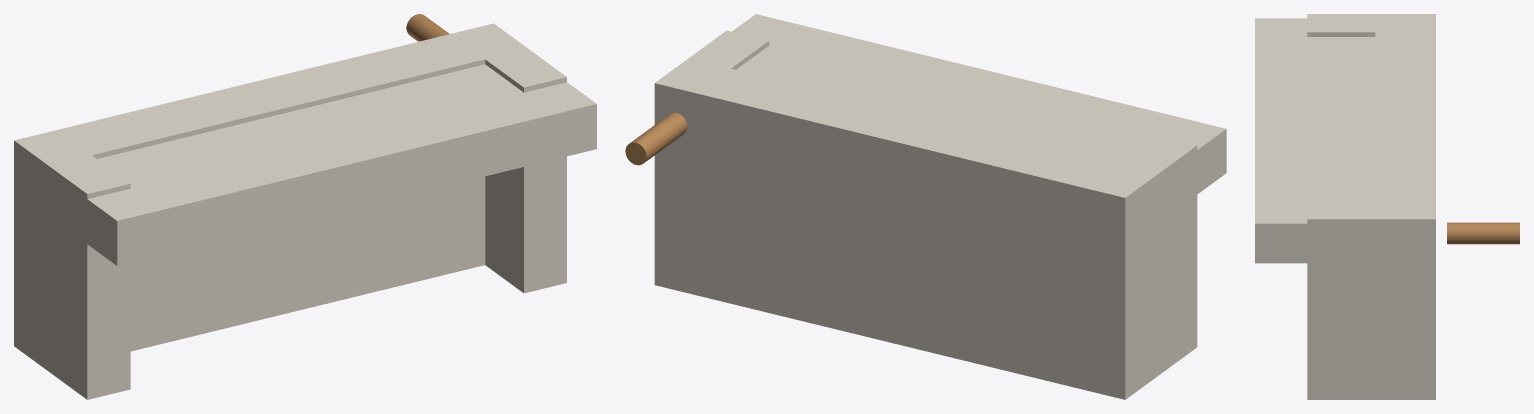
File: divan.glb
3 views of the same model, side by side, from view 1: azimuth 30°, elevation 25°; view 2: azimuth 150°, elevation 25°; view 3: azimuth 270°, elevation 25° (orthographic). The views are drawn at different scales.
Parts seen in each view (by area): view 1: Seat, Back, ArmL, ArmR, Leg; view 2: Seat, Back, ArmL, ArmR, Leg; view 3: Back, Seat, ArmR, ArmL, Leg.
Boxes of the visible parts, box(x1,y1,x2,y2) form: Seat: box(14, 23, 527, 371); Back: box(42, 64, 596, 265); ArmL: box(25, 138, 130, 399); ArmR: box(462, 33, 566, 293); Leg: box(406, 14, 449, 41); Seat: box(654, 59, 1159, 399); Back: box(732, 14, 1226, 194); ArmL: box(1096, 135, 1197, 378); ArmR: box(666, 30, 768, 84); Leg: box(625, 112, 687, 165); Back: box(1255, 18, 1405, 263); Seat: box(1375, 14, 1435, 399); ArmR: box(1307, 201, 1416, 399); ArmL: box(1307, 14, 1416, 36); Leg: box(1447, 222, 1519, 244).
Bounding box in the file's own units: 2 × 0.82 × 1.09.
